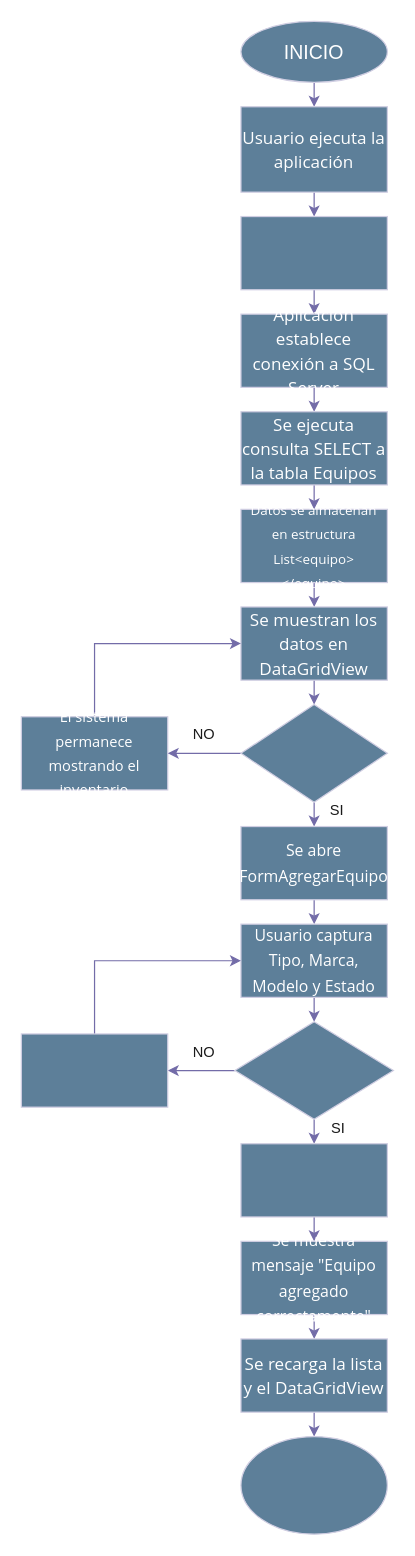
The diagram is 415 pixels wide and 1556 high, and some of its shapes have lost their labels. Each missing label, with the centre of its shape:
FIN: [313,1484]
Mostrar mensaje de error: [94,1070]
Se ejecuta INSERT en la tabla Equipos: [313,1180]
Se muestra FormInventario: [313,252]
¿Todos los campos están llenos?: [313,1070]
¿Usuario presiona "Agregar Equipo"?: [313,752]
